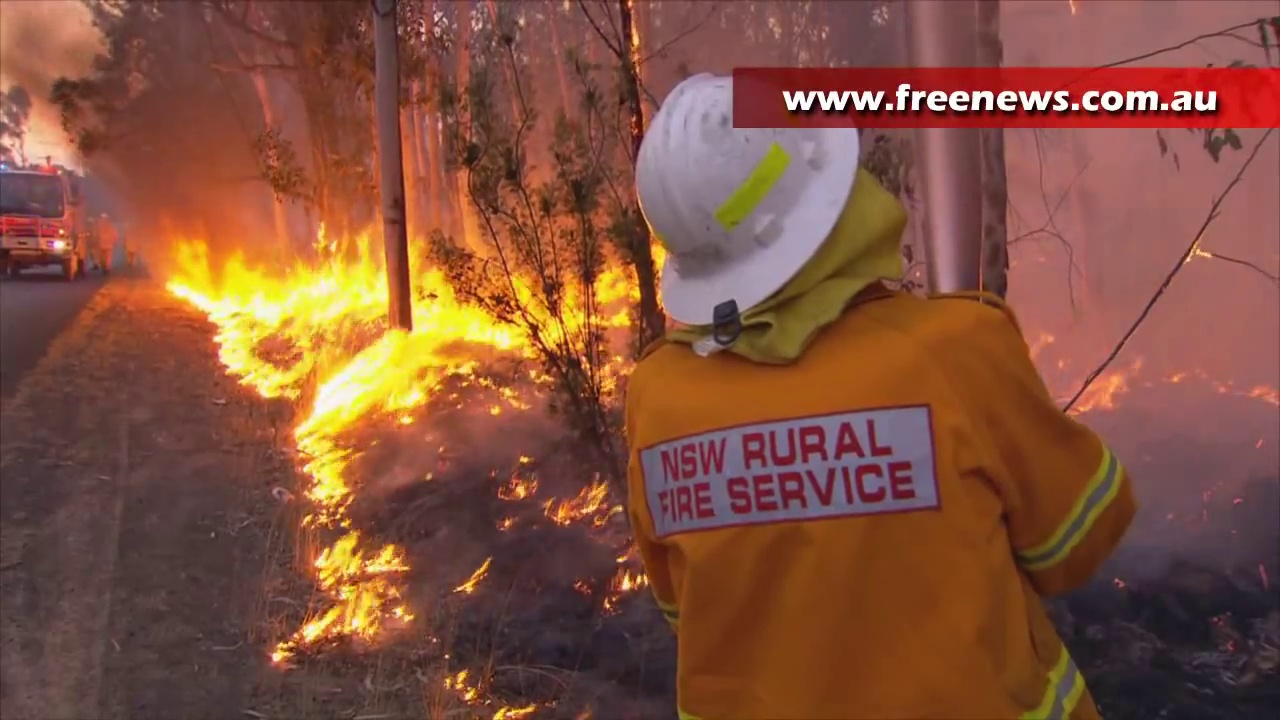fire: (186, 239, 637, 400), (280, 532, 411, 659), (291, 405, 356, 501), (558, 476, 614, 530), (484, 700, 536, 720)
